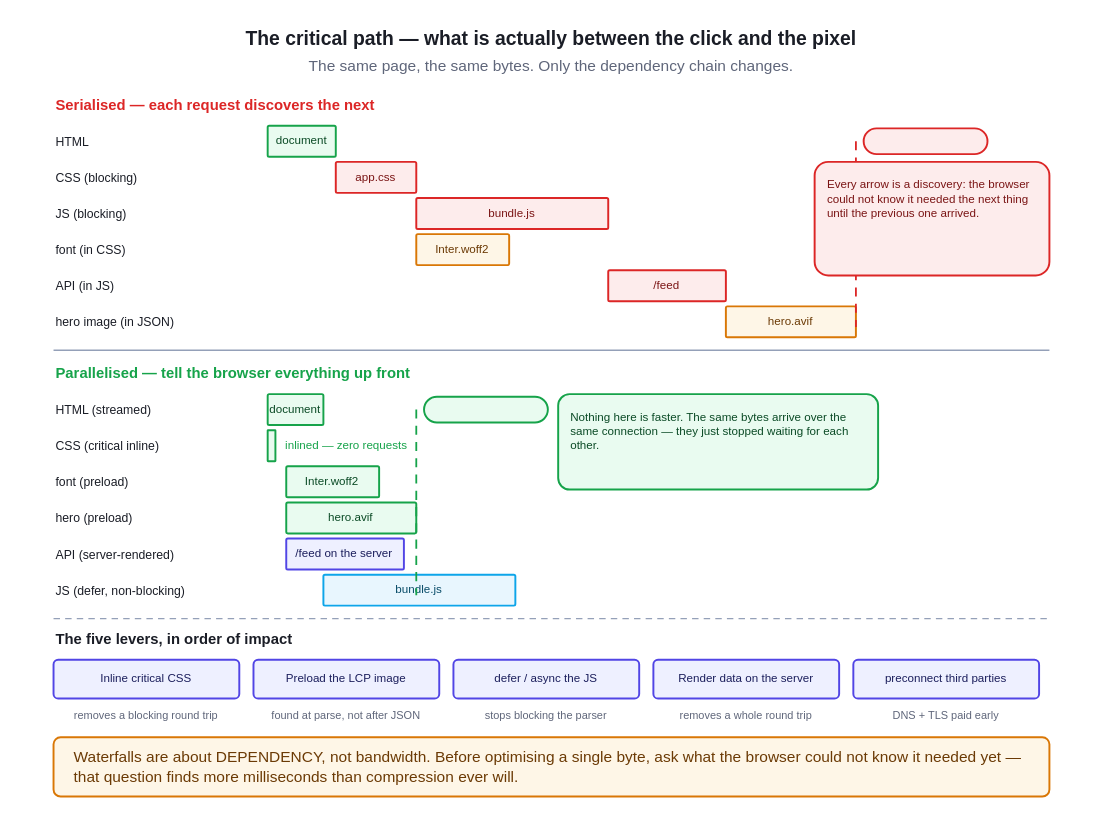
Image size: 1102x819. Some labels were removed from this diagram. Each missing label, with the centre of its shape:
"LCP 0.5 s" goes at (485,409).
"LCP 1.9 s" goes at (925,141).
